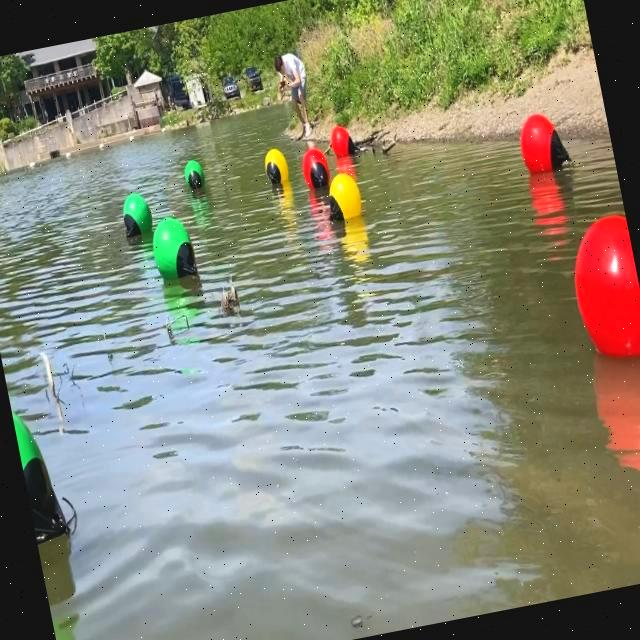buoy: (562, 210, 640, 363), (516, 109, 574, 177), (150, 216, 200, 284), (324, 170, 366, 223), (120, 191, 155, 241), (300, 144, 332, 191), (263, 147, 291, 186), (329, 124, 357, 160), (182, 158, 207, 194)
